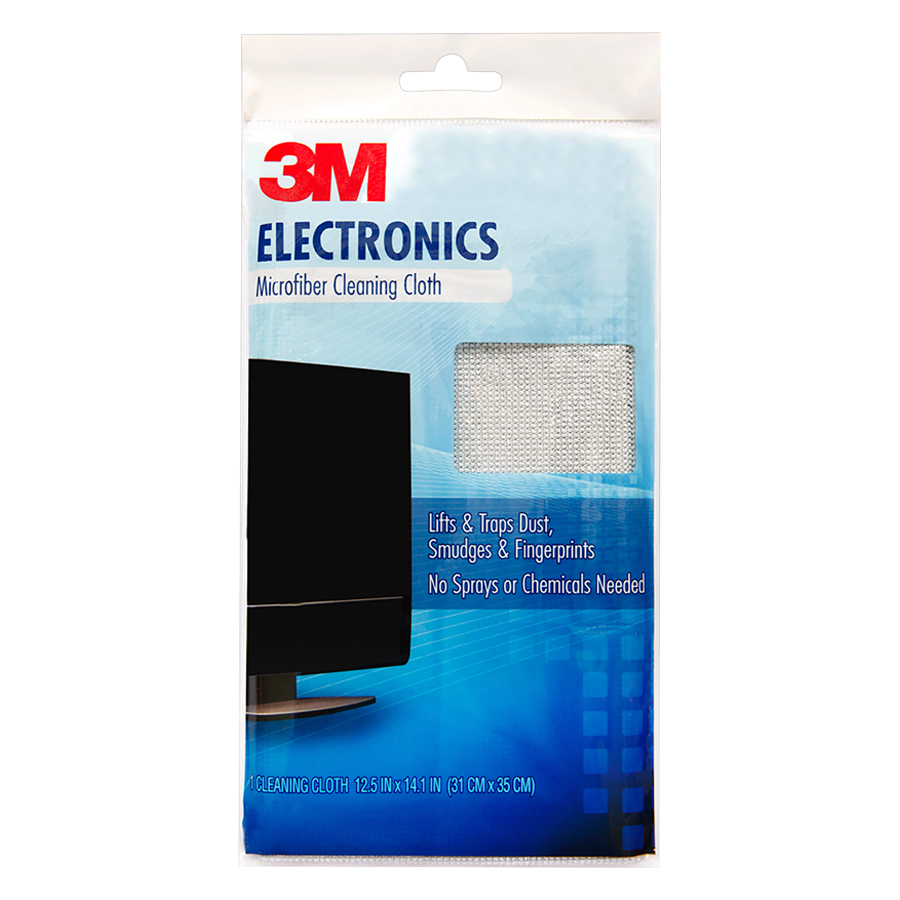3M: (249, 138, 407, 211)
